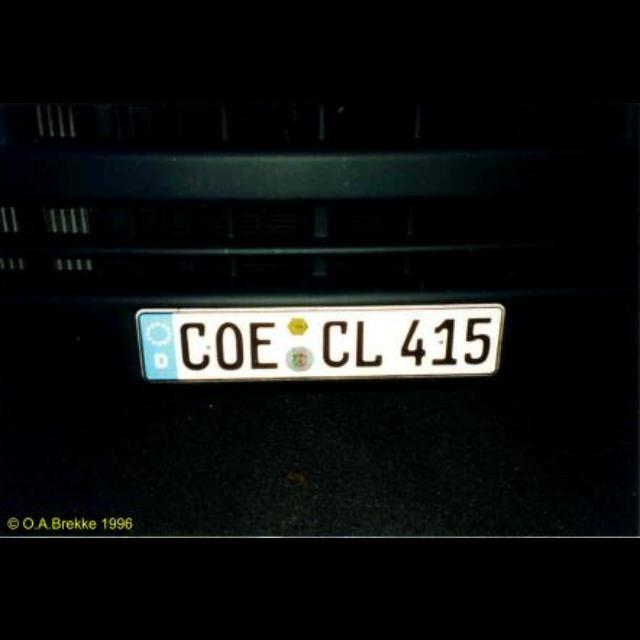license-plates: (136, 304, 506, 382)
